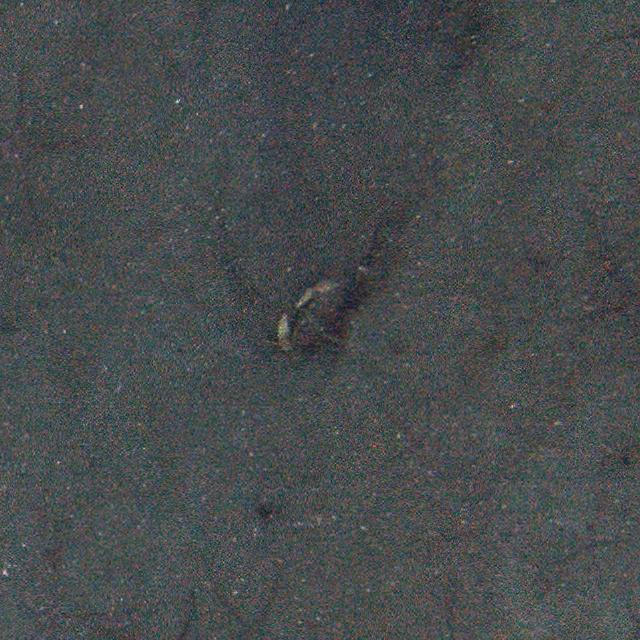crab: (274, 268, 352, 351)
